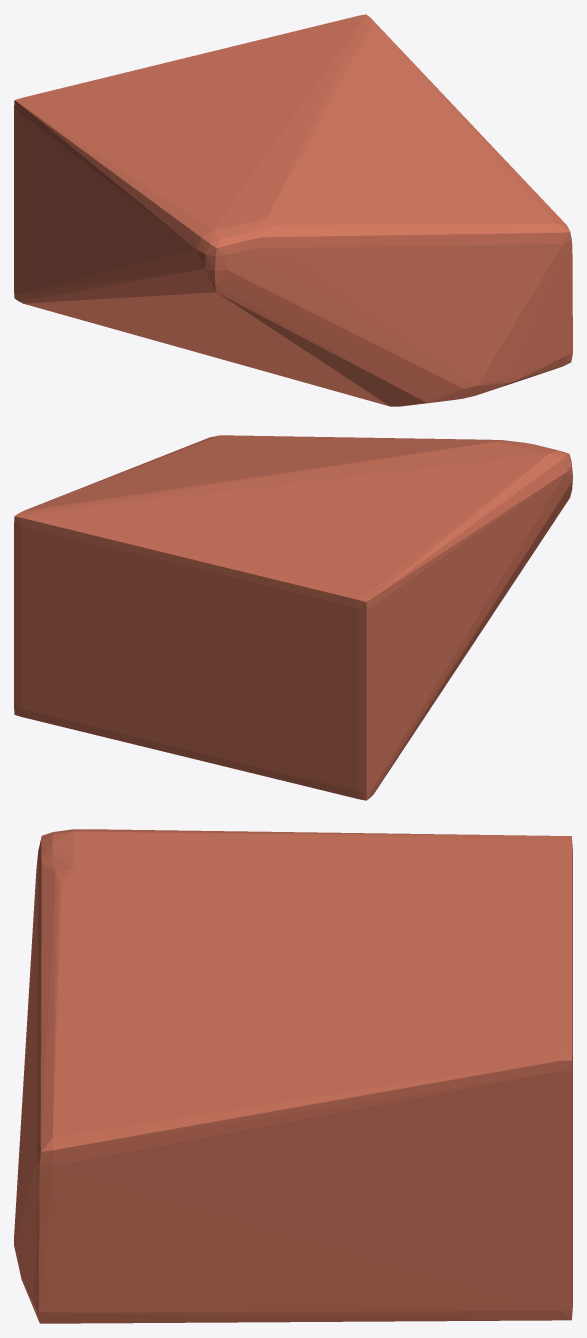
The model's file is right-hip-pitch-0_part_9.obj.
3 renders of one model, top to bottom at view 1: azimuth 30°, elevation 25°; view 2: azimuth 150°, elevation 25°; view 3: azimuth 270°, elevation 25°, orthographic. The views are drawn at different scales.
Size of the model in its own units: 0.0653 by 0.0363 by 0.0663.
